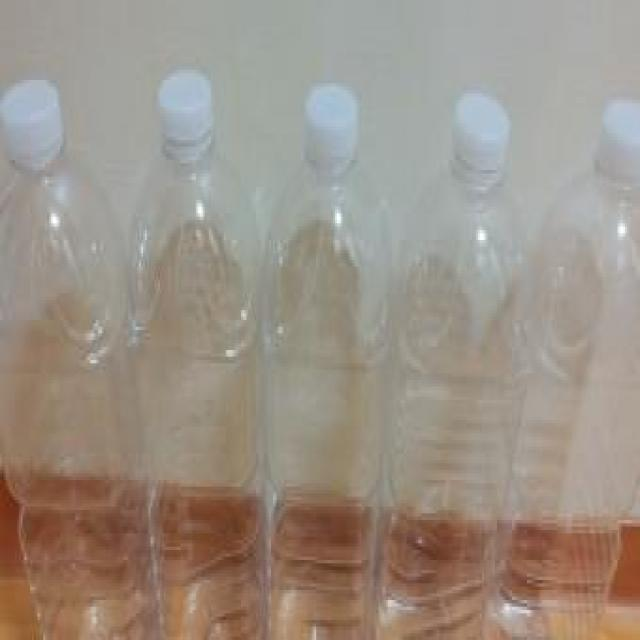bottle: (0, 50, 280, 640)
